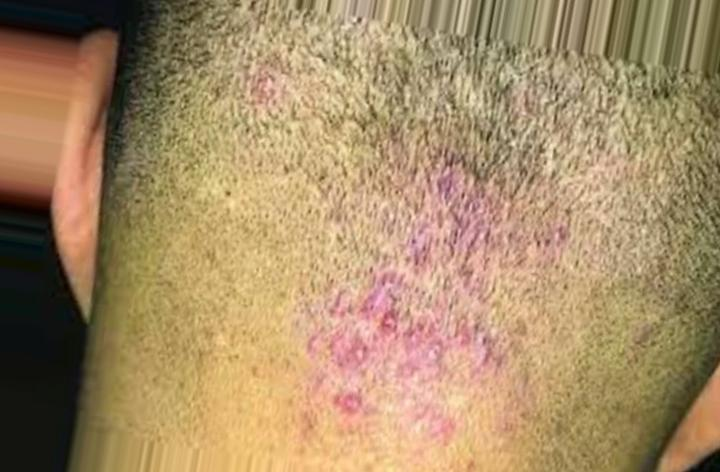Folliculitis: (309, 152, 534, 435)
